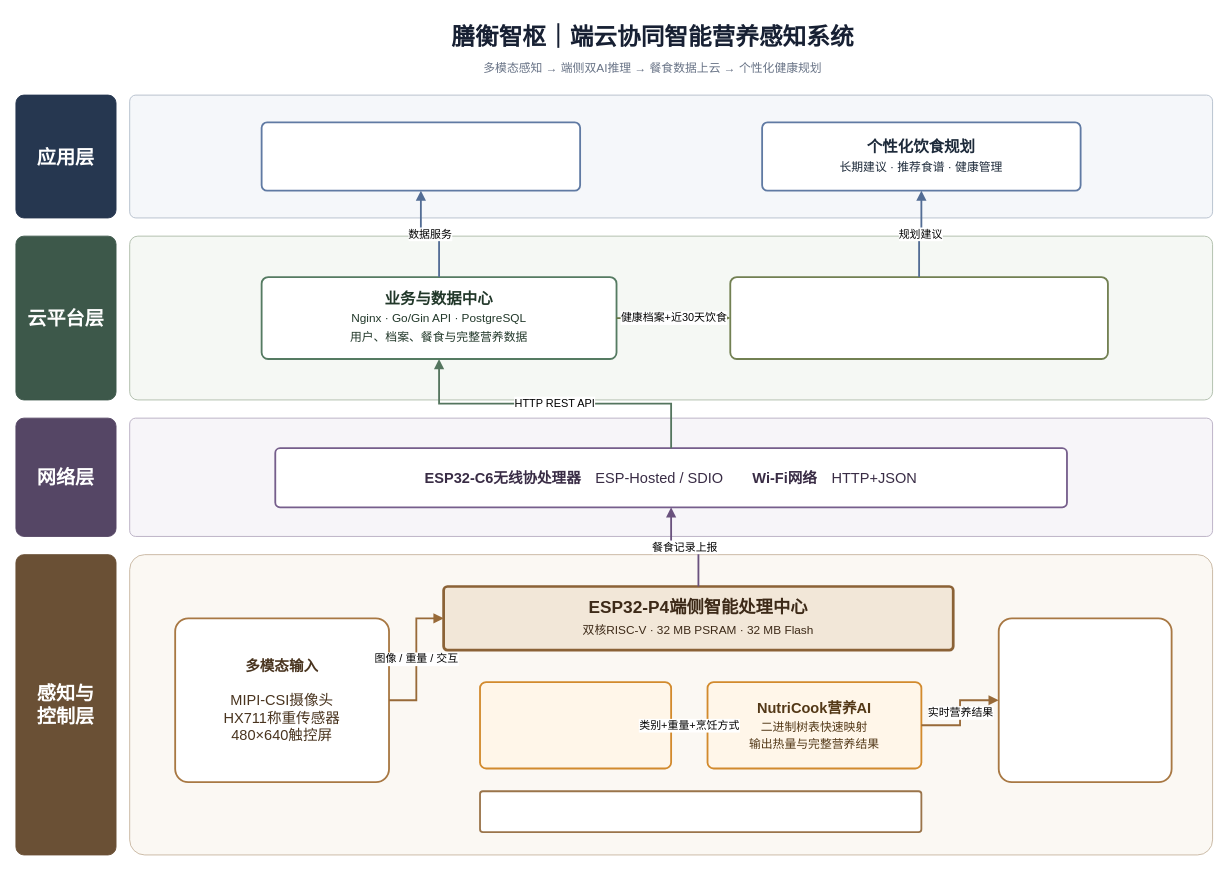
Some shapes in this 1229 by 871 pixel diagram are drawn without their labels. The box of each missing label's shape, as (x1, y1, x2, y2) in pixels:
FreeRTOS任务协同 称重触发 · 图像推理 · LVGL交互 · 营养计算 · 餐食状态管理 · 上云队列: (479, 790, 922, 833)
RAG健康规划服务 Python FastAPI · LlamaIndex · 阿里云百炼 营养知识库+近30天饮食数据: (729, 276, 1108, 359)
Web健康管理端 饮食记录 · 营养趋势 · 健康档案: (260, 121, 581, 191)
端侧实时结果 食材+重量 烹饪方式 热量+营养成分 本地闭环，无网可用: (997, 617, 1172, 783)
食材识别AI ESP-DL YOLO 识别食材类别: (479, 681, 672, 769)
